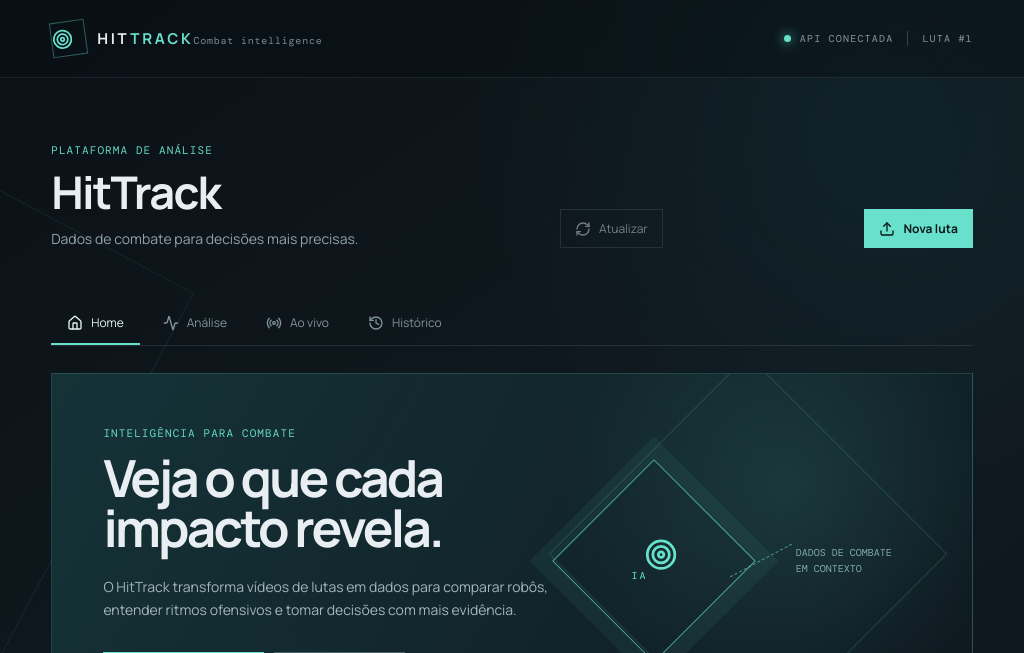
Test case: HitTrack dashboard › opens the new-fight form
Click the button "Nova luta" at [919, 229], box [864,209,973,248]
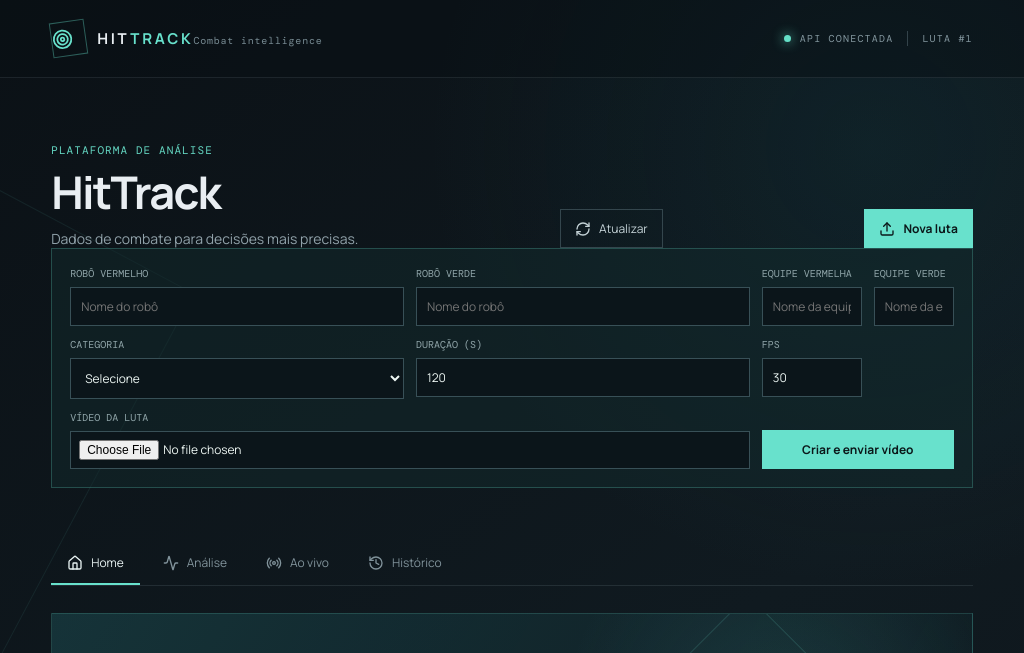
Now the field labelled "Robô vermelho" is shown, box [70,287,404,326]
Now the field labelled "Robô verde" is shown, box [416,287,750,326]
Now the file field labelled "Vídeo da luta" is shown, box [70,431,750,469]
